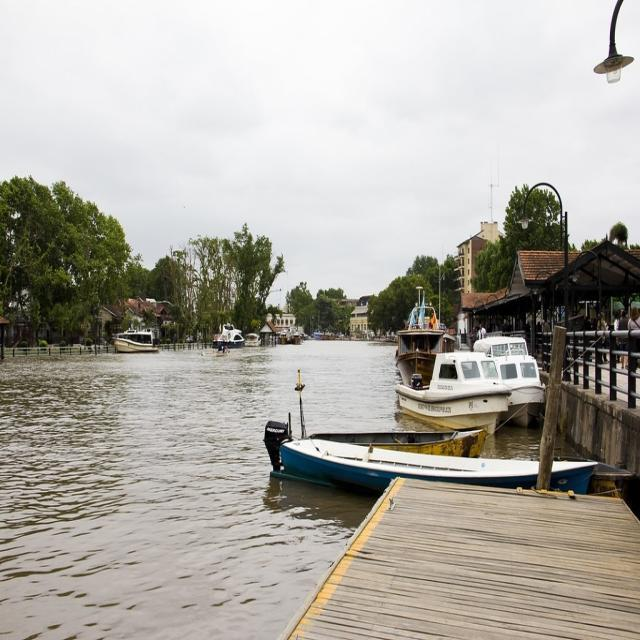boat: (264, 420, 600, 497), (399, 344, 507, 433), (115, 332, 161, 354), (211, 326, 247, 352), (243, 326, 263, 351)
